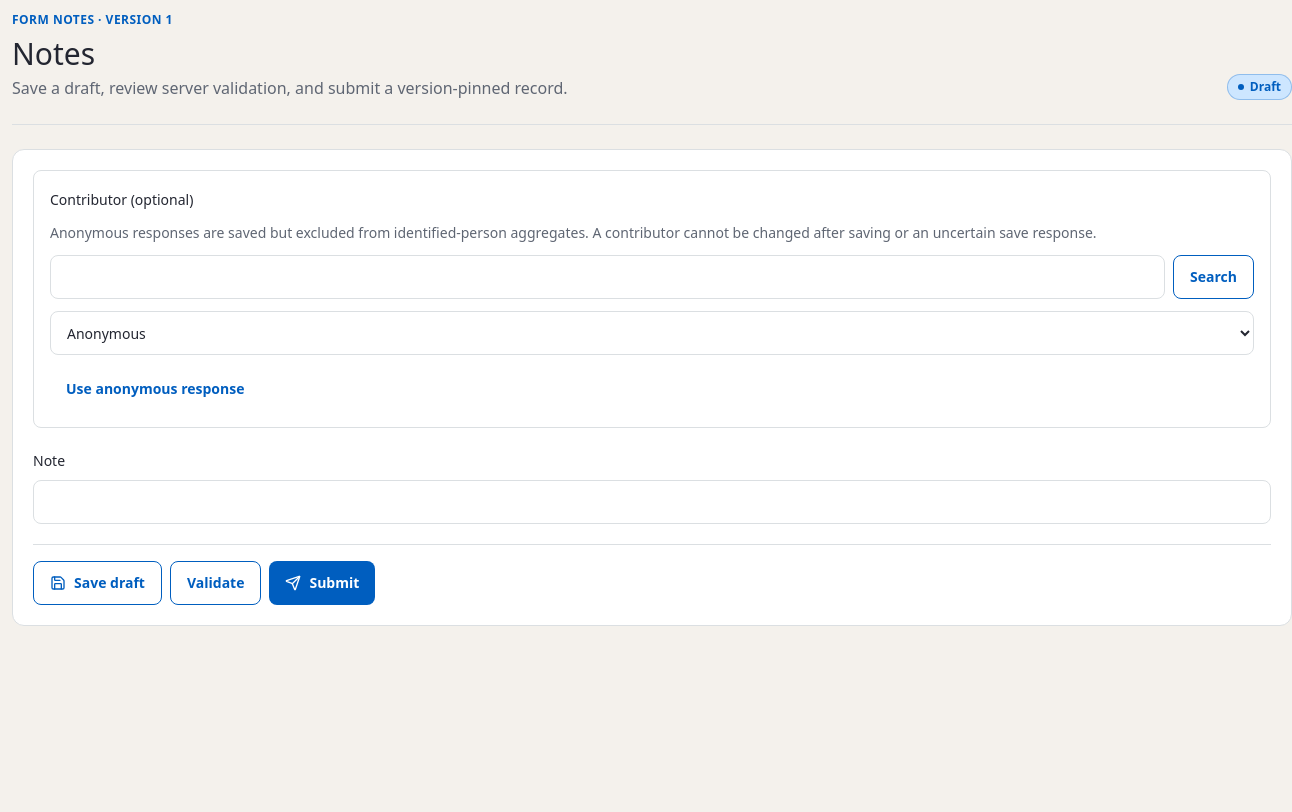
Test: direct entry scoped retry and continuation ownership › preserves an identified contributor and exact request key after an uncertain save
Expected: the button "Save draft" is shown, top-left (33, 561), bottom-right (162, 605)
Select "synthetic — Synthetic contributor" in the dropdown labelled "Contributor (optional)": [652, 333] box top-left (50, 311), bottom-right (1254, 355)
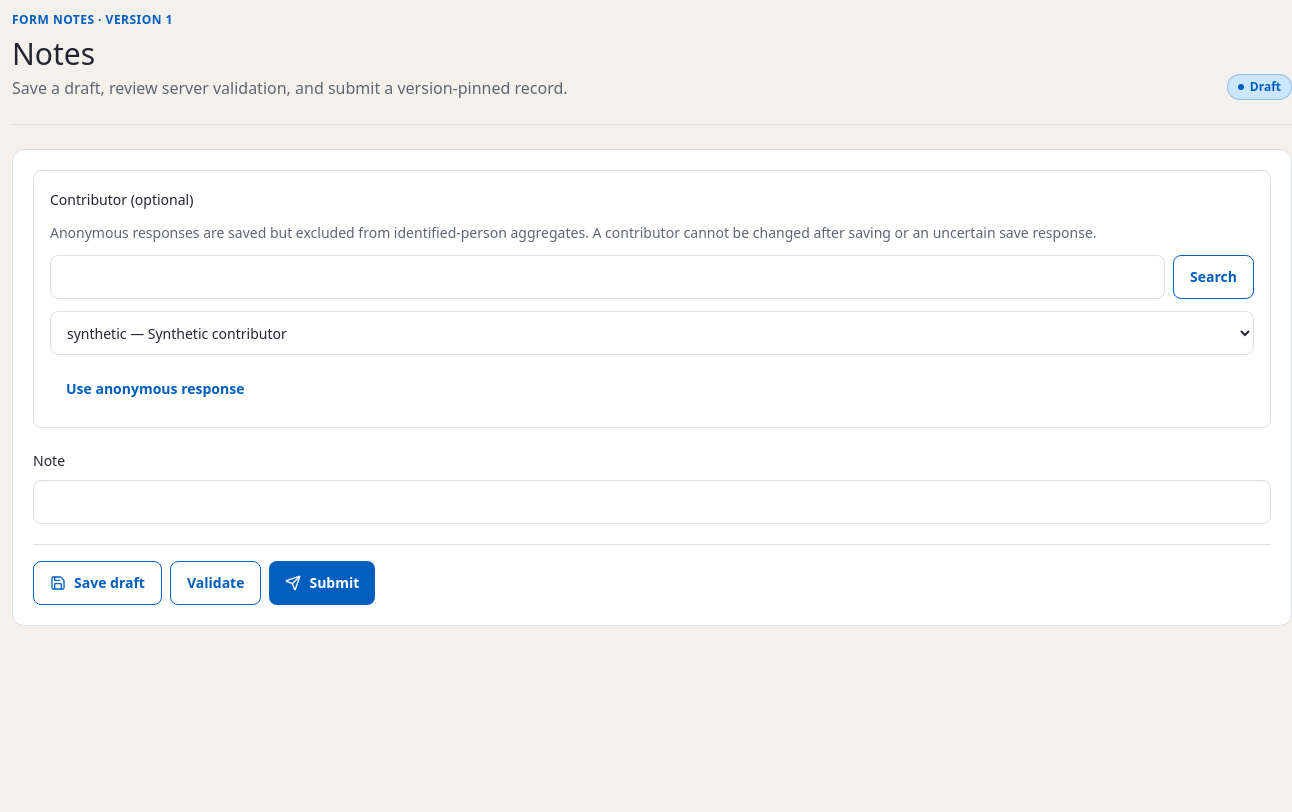
In the field labelled "Note": [652, 502] box top-left (33, 480), bottom-right (1271, 524), type "New note"
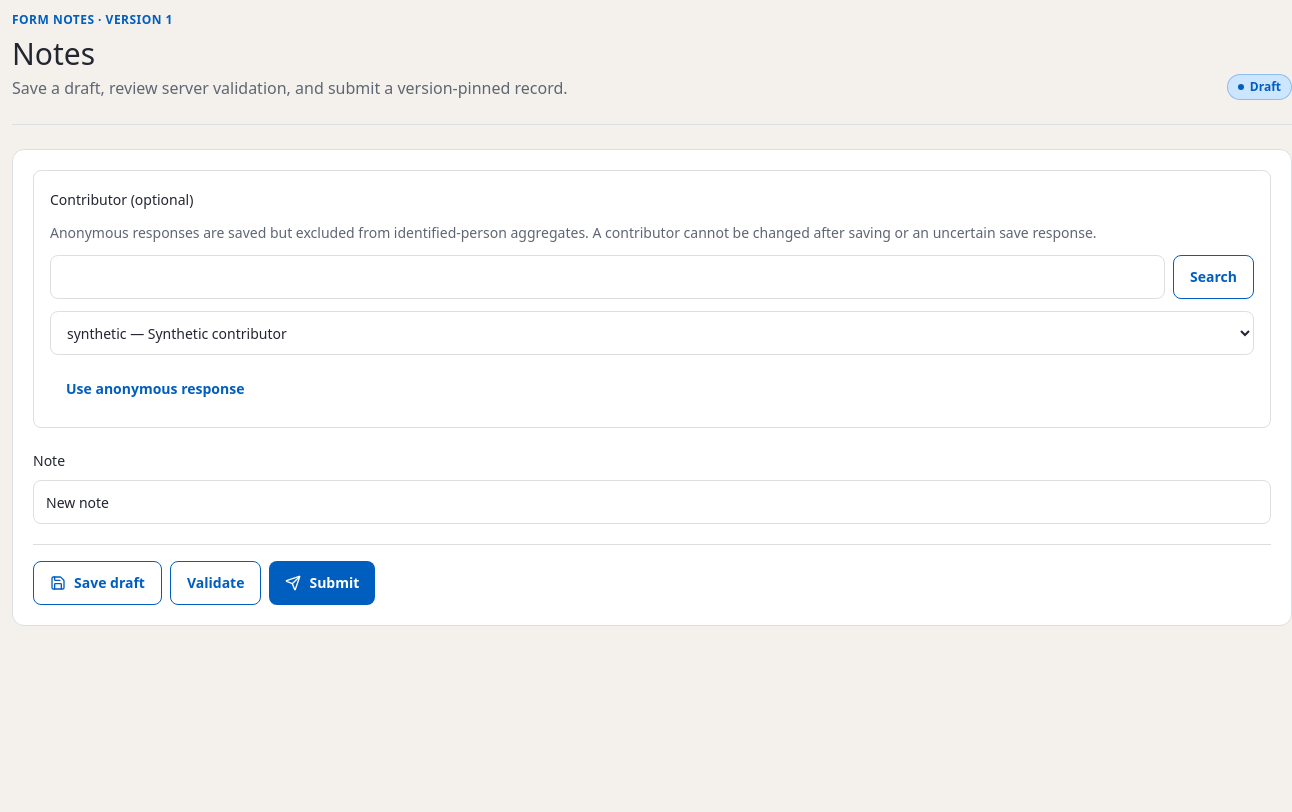
Click the button "Save draft": [98, 583] box top-left (33, 561), bottom-right (162, 605)
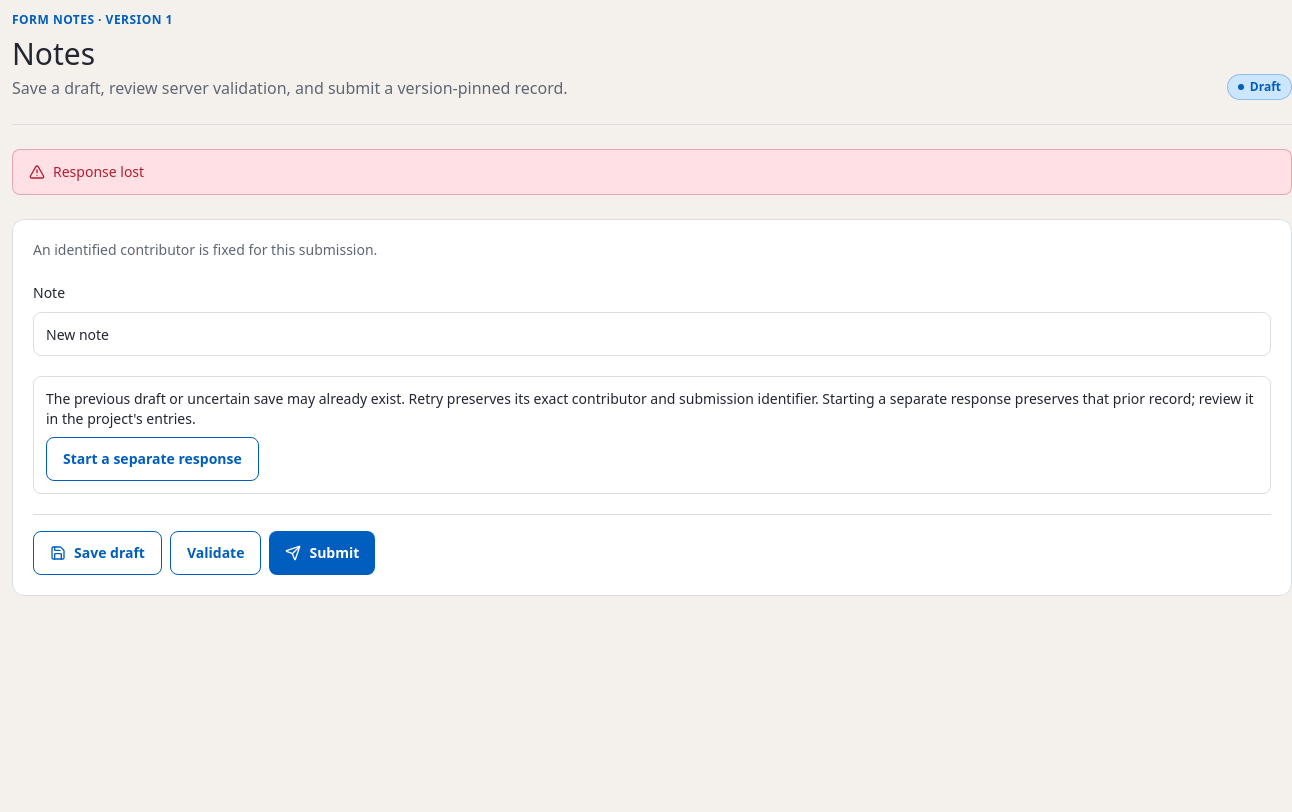
Result: the text "Response lost" is shown at top-left (53, 162), bottom-right (144, 182)
Result: the label labelled "Contributor (optional)" is gone
Click the button "Save draft": [98, 553] box top-left (33, 531), bottom-right (162, 575)
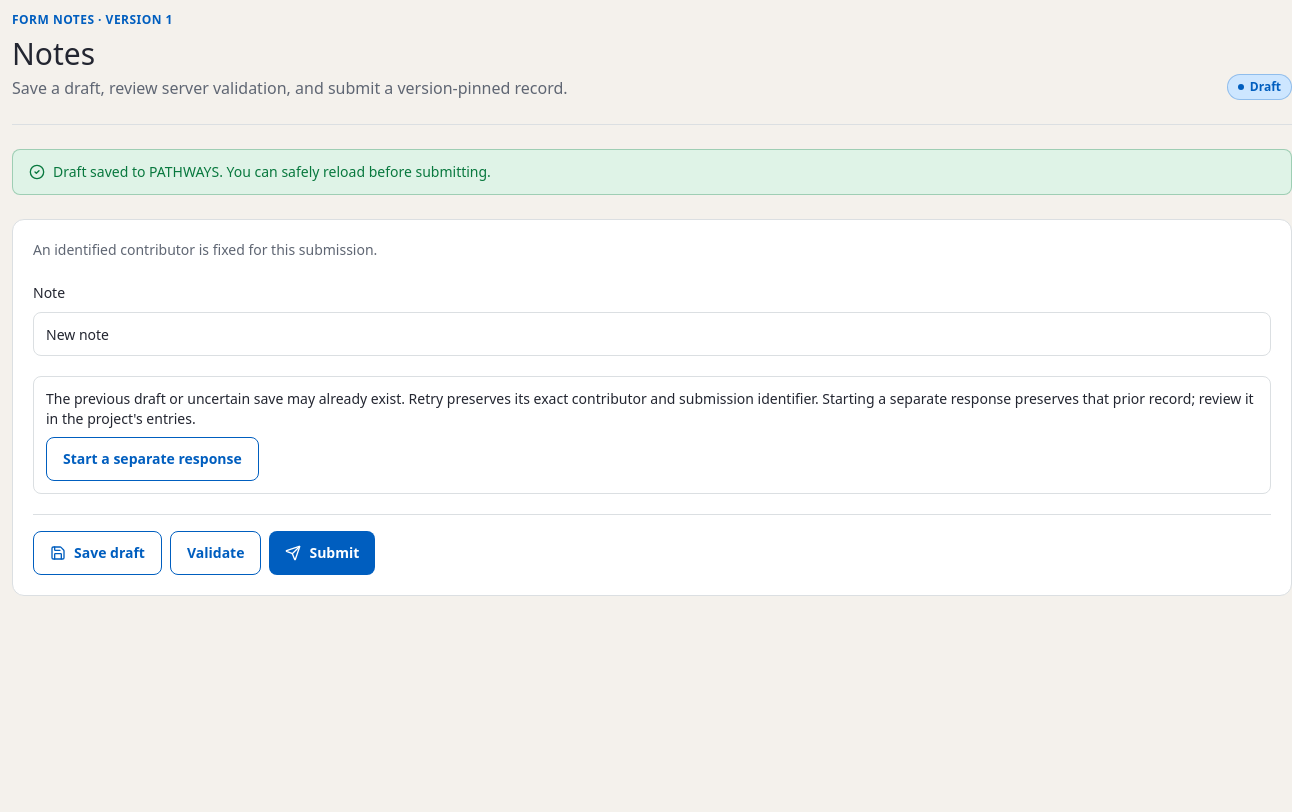
Result: the text "Draft saved to PATHWAYS" is shown at top-left (53, 162), bottom-right (491, 181)
